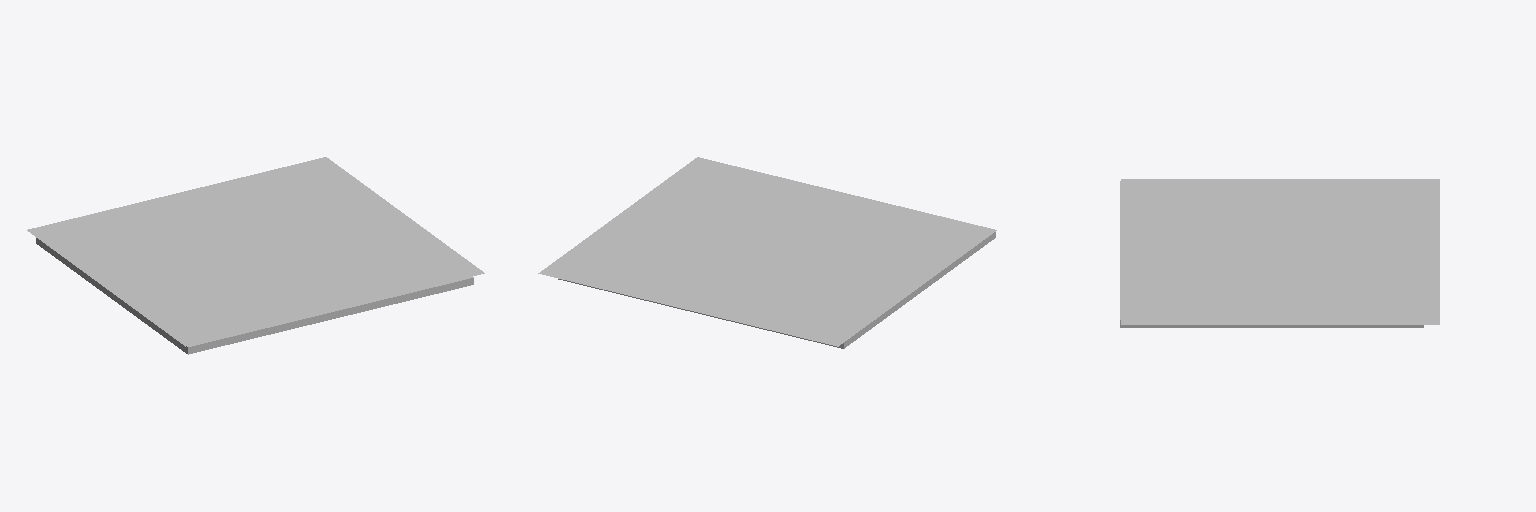
Rendered from backrooms_ceil.obj.
3 views of the same model, side by side, from view 1: azimuth 30°, elevation 25°; view 2: azimuth 150°, elevation 25°; view 3: azimuth 270°, elevation 25° (orthographic).
Parts seen in each view (by area): view 1: Plane.002, Plane.001; view 2: Plane.002, Plane.001; view 3: Plane.002, Plane.001.
Part boxes in pixels (x1,y1,x2,y2): Plane.002: (27, 157, 484, 346); Plane.001: (36, 238, 473, 354); Plane.002: (538, 157, 996, 346); Plane.001: (558, 232, 995, 348); Plane.002: (1121, 179, 1439, 324); Plane.001: (1120, 181, 1423, 327).
Size of the model in its own units: 274 by 7.34 by 252.